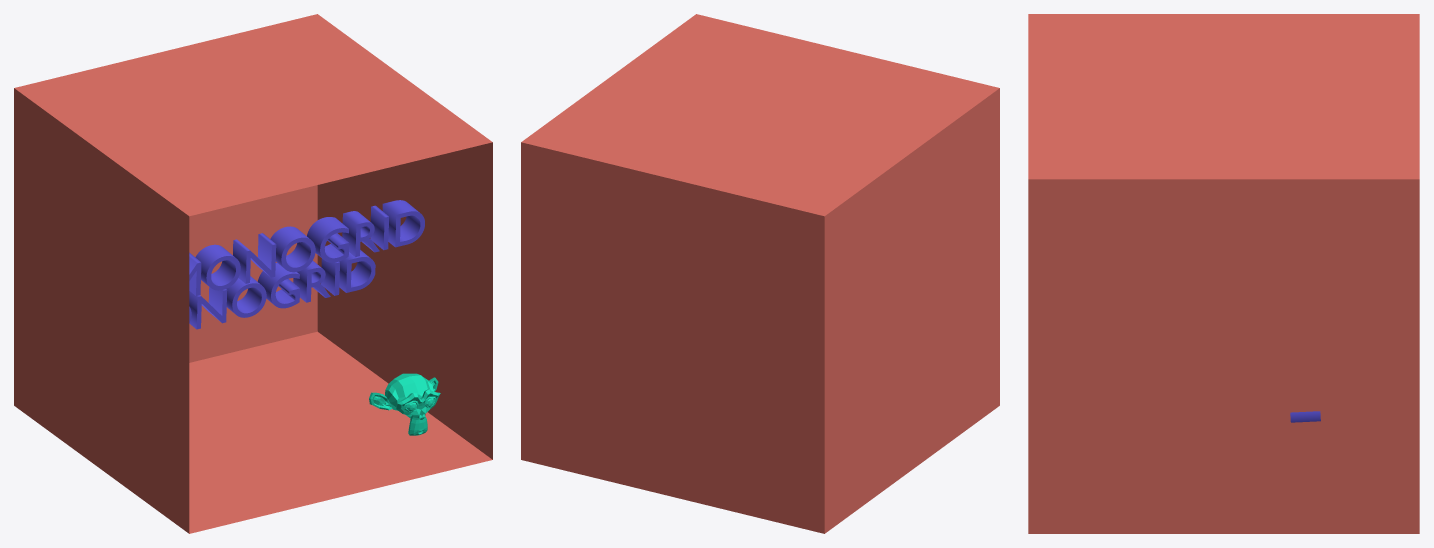
The model's file is tie.glb.
3 views of the same model, side by side, from view 1: azimuth 30°, elevation 25°; view 2: azimuth 150°, elevation 25°; view 3: azimuth 270°, elevation 25° (orthographic). The views are drawn at different scales.
Visible parts, largest first — view 1: Cube, Monogrid, Monogrid.001, Suzanne.001; view 2: Cube; view 3: Cube.
Part boxes in pixels (box(x1,y1,x2,y2)): Cube: box(14, 14, 492, 533); Monogrid: box(189, 200, 424, 295); Monogrid.001: box(189, 250, 375, 329); Suzanne.001: box(369, 373, 440, 435); Cube: box(521, 14, 999, 533); Cube: box(1028, 14, 1419, 533).
Bounding box in the file's own units: 3.57 × 3.56 × 3.56.
